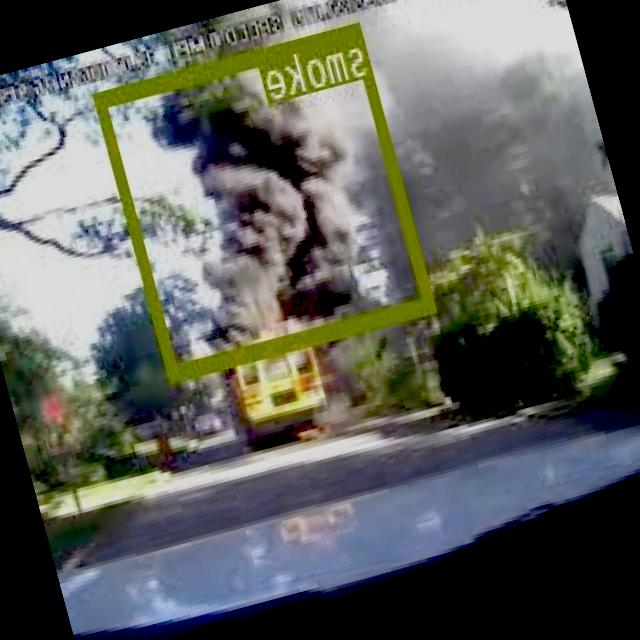smoke: (95, 21, 438, 378)
